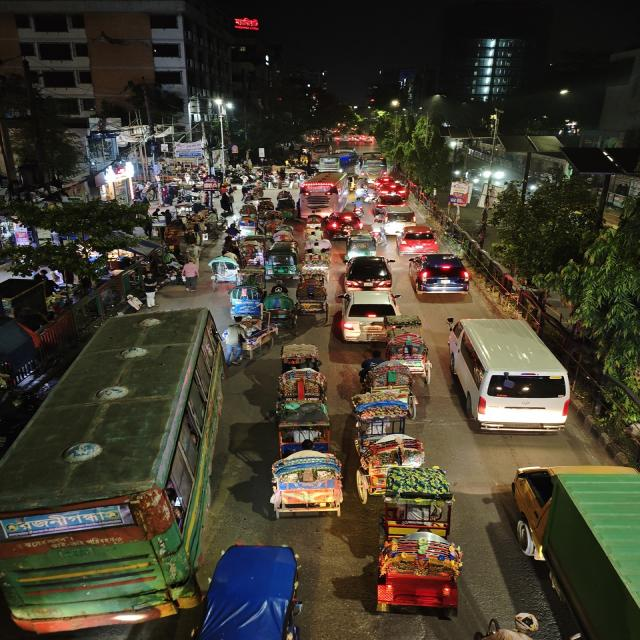bus: (0, 309, 221, 636), (298, 172, 345, 214), (317, 152, 357, 174), (359, 152, 390, 179)
car: (444, 315, 576, 437), (332, 290, 404, 344), (405, 251, 474, 297), (340, 254, 395, 290), (372, 194, 417, 228), (393, 226, 440, 253), (332, 212, 364, 235), (372, 194, 412, 212)
cng: (265, 244, 299, 278), (344, 232, 379, 258)
motorcycle: (352, 197, 364, 217)
pedestrian: (223, 317, 254, 367), (137, 274, 162, 308), (178, 258, 201, 292), (131, 284, 150, 309), (124, 292, 144, 312)
rickshaw: (373, 461, 471, 619), (262, 433, 347, 521), (357, 428, 421, 496), (270, 347, 330, 418), (353, 362, 414, 430), (384, 320, 433, 380), (260, 286, 296, 334), (226, 281, 266, 320), (294, 277, 327, 316), (207, 252, 240, 284), (302, 245, 332, 276), (238, 239, 263, 268), (263, 210, 286, 237), (235, 215, 262, 237), (275, 191, 297, 217), (302, 213, 324, 236), (272, 224, 297, 244), (258, 197, 276, 214), (352, 183, 372, 198)
truck: (496, 454, 640, 613), (373, 207, 418, 229)
